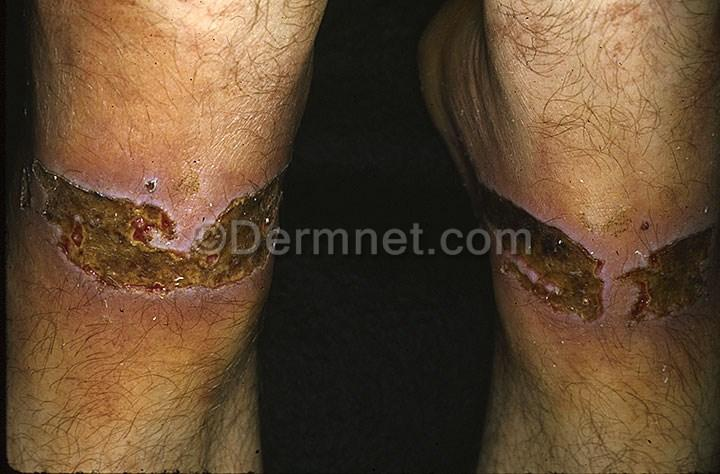Eczema: (16, 148, 148, 283), (493, 169, 596, 330), (199, 140, 282, 293), (120, 184, 212, 319), (652, 174, 720, 341), (571, 224, 657, 346)
